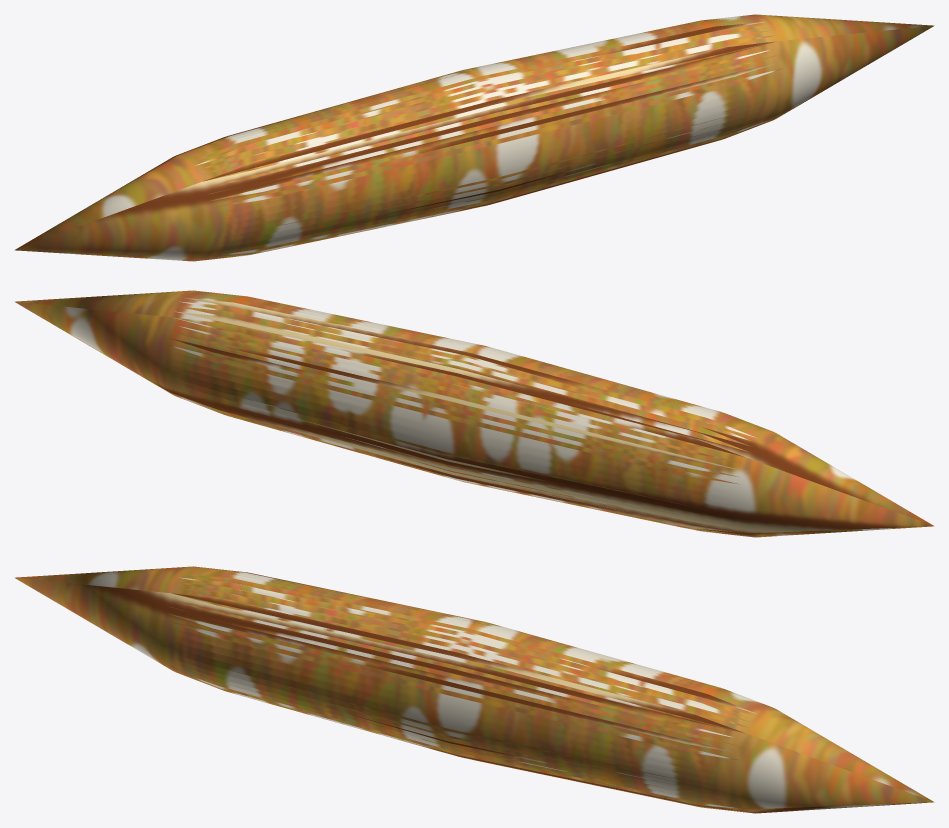
Rendered from baguette.glb.
3 views of the same model, one above another, from view 1: azimuth 30°, elevation 25°; view 2: azimuth 150°, elevation 25°; view 3: azimuth 330°, elevation 25° (orthographic).
Visible parts, largest first — view 1: Baguette; view 2: Baguette; view 3: Baguette.
Part boxes in pixels (x1,y1,x2,y2): Baguette: [14, 14, 934, 261]; Baguette: [14, 290, 934, 537]; Baguette: [14, 566, 934, 813].
Size of the model in its own units: 0.537 by 0.0718 by 0.061.
Materials: 1 (1 with a texture image).
